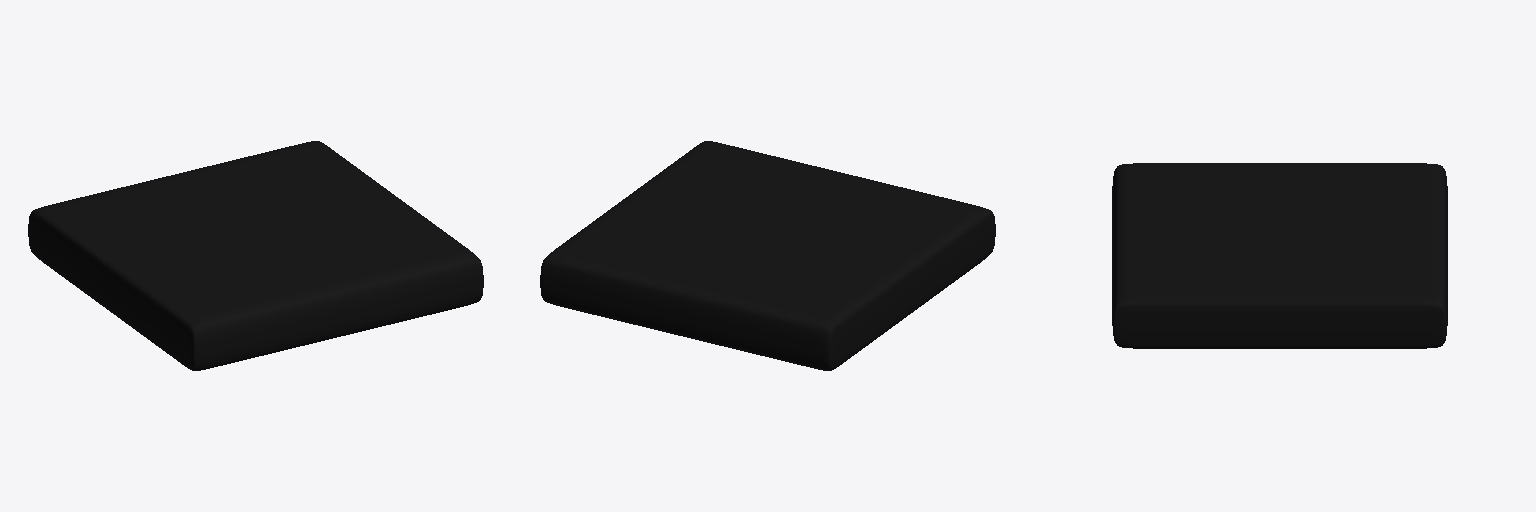
File: cubePrimary.obj
3 renders of one model, left to right at view 1: azimuth 30°, elevation 25°; view 2: azimuth 150°, elevation 25°; view 3: azimuth 270°, elevation 25°, orthographic.
Parts seen in each view (by area): view 1: Cube; view 2: Cube; view 3: Cube.
Part boxes in pixels (x1,y1,x2,y2): Cube: (28, 141, 483, 370); Cube: (540, 141, 995, 370); Cube: (1112, 163, 1447, 348).
Bounding box in the file's own units: 2 × 0.3275 × 1.99.